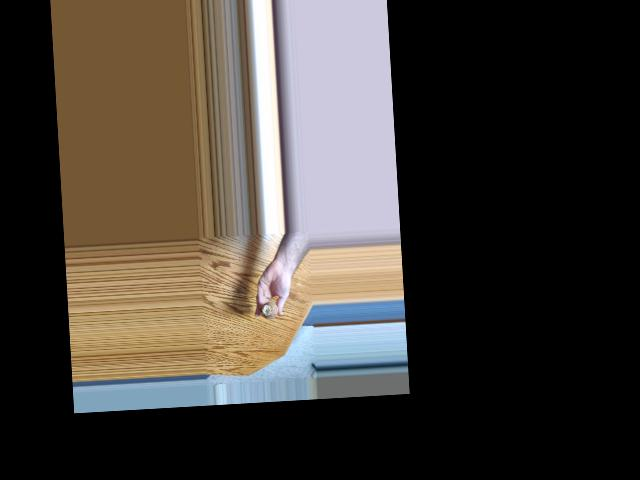sweet_potato: (261, 303, 280, 320)
